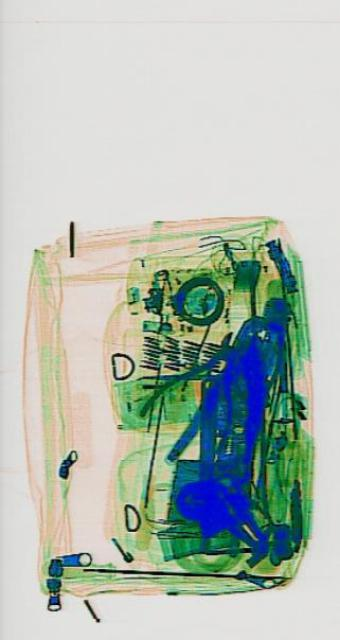Pliers: (165, 286, 296, 530), (136, 288, 259, 502)
